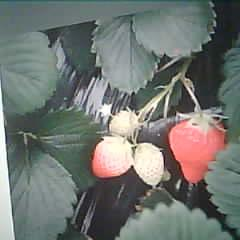straw-ripe: (170, 120, 225, 183)
straw-unripe: (93, 139, 132, 177), (134, 143, 165, 186), (109, 111, 137, 137)
